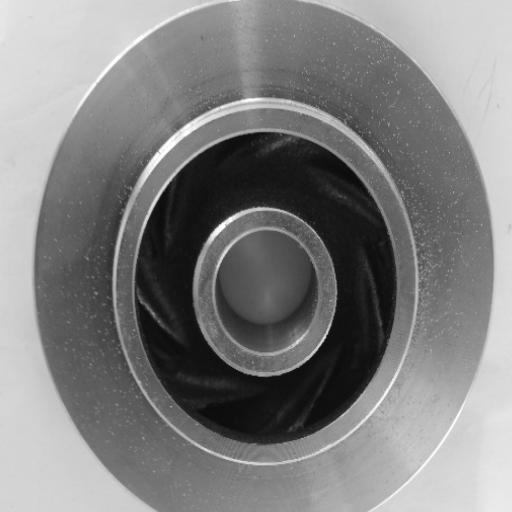polished_casting: (34, 0, 492, 512)
